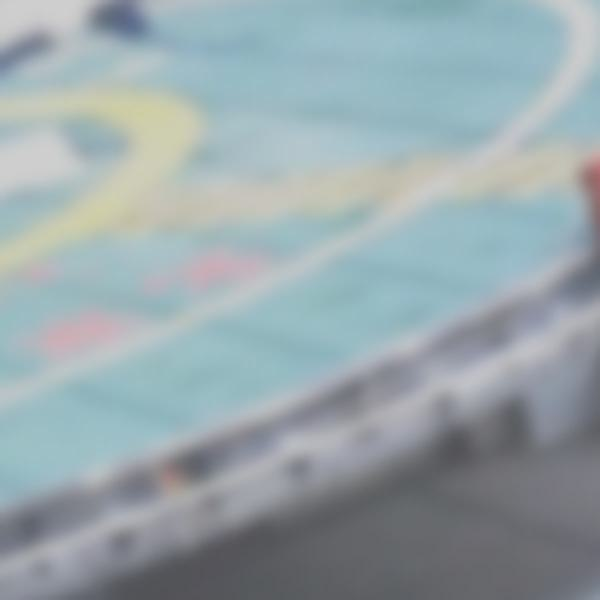Apron: (1, 23, 213, 298)
